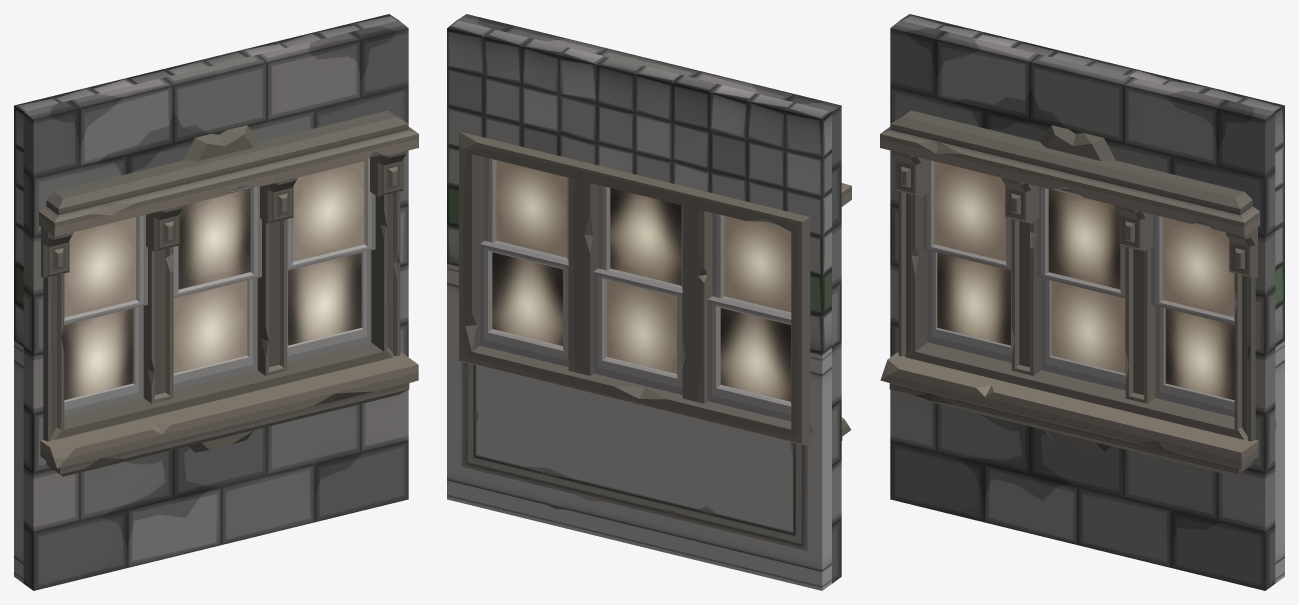
The model's file is SM_Bld_Wall_Window_01.fbx.
The picture shows the model from 3 angles, left to right: view 1: azimuth 30°, elevation 25°; view 2: azimuth 150°, elevation 25°; view 3: azimuth 330°, elevation 25°; orthographic projection.
Parts seen in each view (by area): view 1: SM_Bld_Wall_Window_01, SM_Bld_Wall_Window_01_Glass_03, SM_Bld_Wall_Window_01_Glass_02, SM_Bld_Wall_Window_01_Glass_01; view 2: SM_Bld_Wall_Window_01, SM_Bld_Wall_Window_01_Glass_03, SM_Bld_Wall_Window_01_Glass_01, SM_Bld_Wall_Window_01_Glass_02; view 3: SM_Bld_Wall_Window_01, SM_Bld_Wall_Window_01_Glass_01, SM_Bld_Wall_Window_01_Glass_02, SM_Bld_Wall_Window_01_Glass_03.
Part boxes in pixels (bbox=[...]): SM_Bld_Wall_Window_01: bbox=[14, 14, 418, 590]; SM_Bld_Wall_Window_01_Glass_03: bbox=[288, 252, 361, 345]; SM_Bld_Wall_Window_01_Glass_02: bbox=[174, 280, 247, 373]; SM_Bld_Wall_Window_01_Glass_01: bbox=[61, 308, 133, 400]; SM_Bld_Wall_Window_01: bbox=[447, 14, 851, 590]; SM_Bld_Wall_Window_01_Glass_03: bbox=[492, 252, 562, 345]; SM_Bld_Wall_Window_01_Glass_01: bbox=[720, 308, 790, 401]; SM_Bld_Wall_Window_01_Glass_02: bbox=[606, 280, 676, 373]; SM_Bld_Wall_Window_01: bbox=[880, 14, 1284, 590]; SM_Bld_Wall_Window_01_Glass_01: bbox=[937, 252, 1010, 345]; SM_Bld_Wall_Window_01_Glass_02: bbox=[1051, 280, 1124, 373]; SM_Bld_Wall_Window_01_Glass_03: bbox=[1165, 308, 1234, 400].
Bounding box in the file's own units: 250 × 301 × 45.29.
